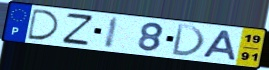8: (136, 21, 164, 53)
A: (201, 29, 238, 62)
D: (170, 23, 207, 58), (26, 8, 61, 42)
I: (102, 15, 121, 50)
Z: (61, 12, 95, 47)
